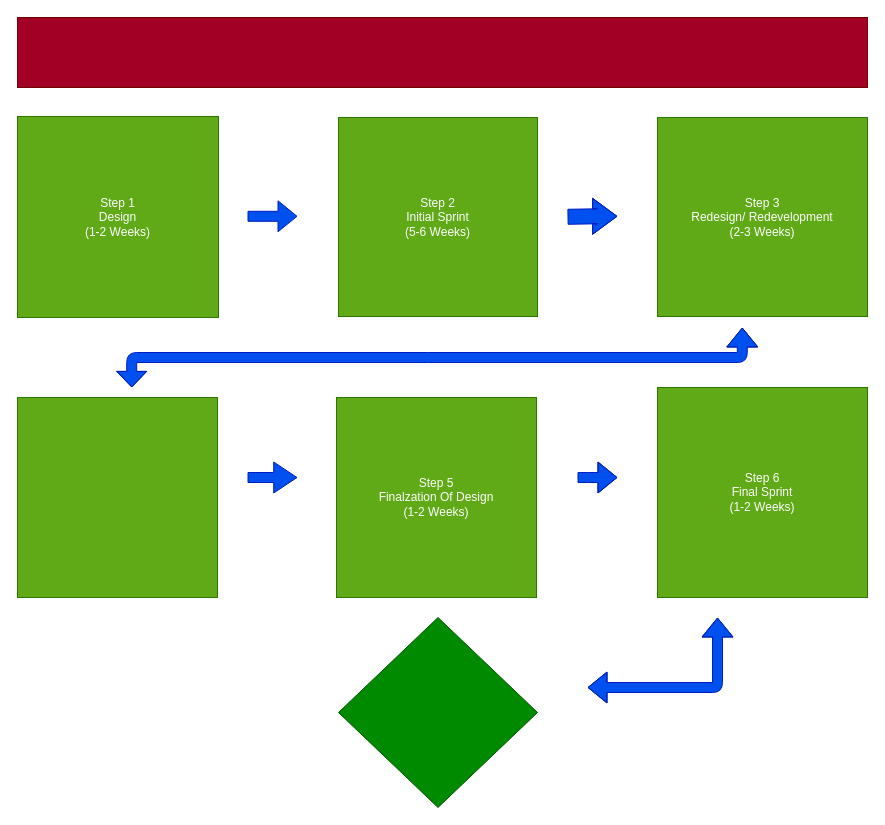
Some shapes in this 885 by 825 pixel diagram are drawn without their labels. The centre of each missing label's shape, as x and y in pixels:
"Product Delivery" goes at [438,712].
"Step 4 Redesign Sprint (1-2 Weeks)" goes at [117,497].
"Step By Step Process" goes at [442,52].
